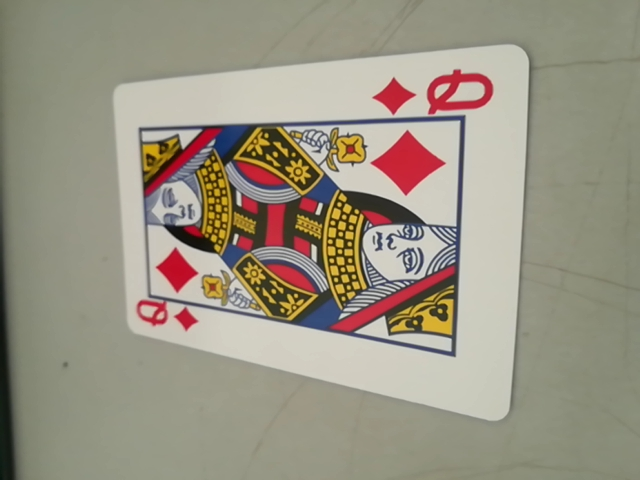fk q: (374, 65, 499, 119), (130, 294, 203, 340)
